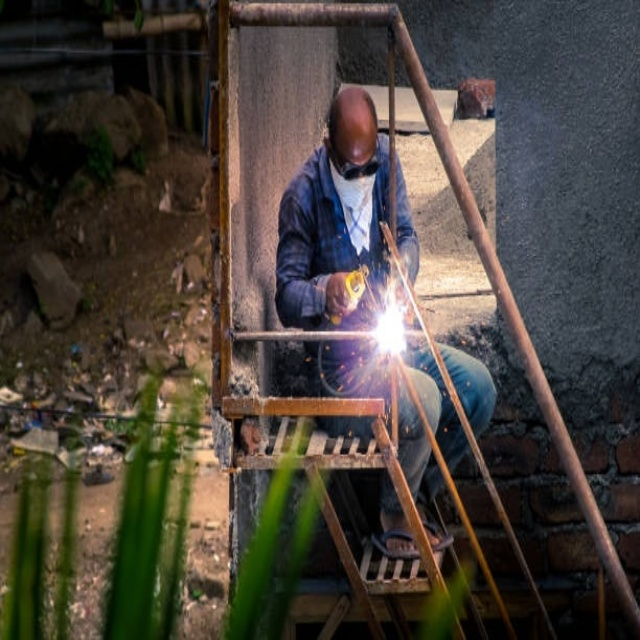Gafas: (328, 132, 380, 180)
Mascara: (329, 155, 376, 245)
Sin_guantes: (322, 270, 363, 324)
